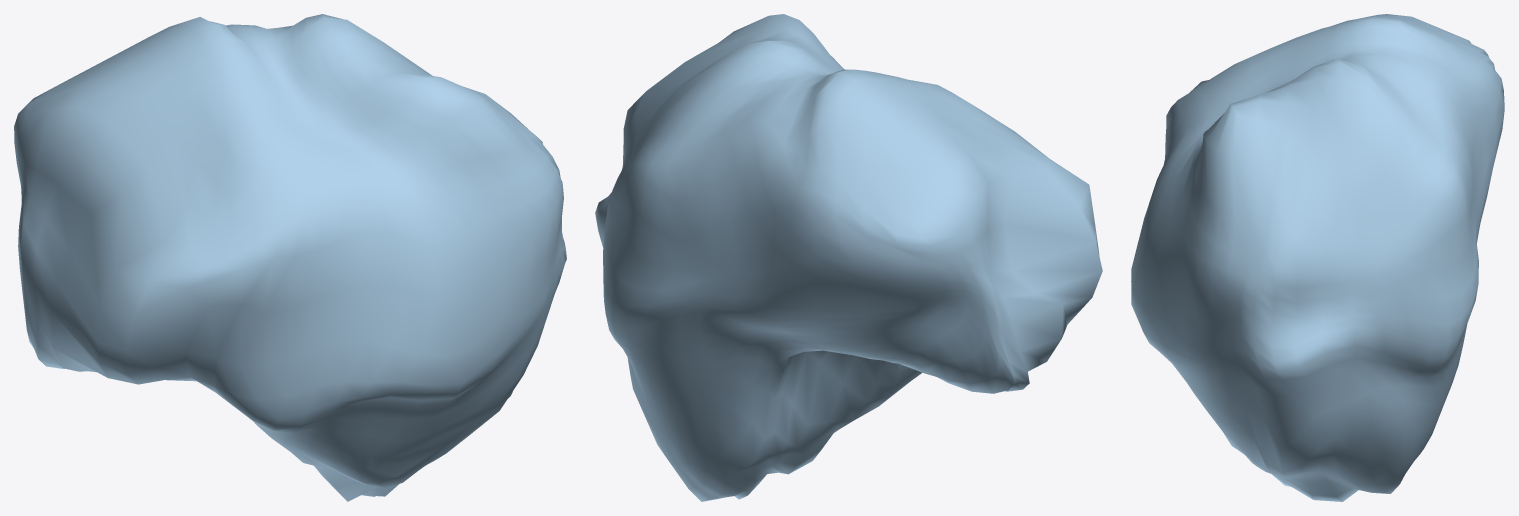
File: iceberg01.fbx
The picture shows the model from 3 angles, left to right: view 1: azimuth 30°, elevation 25°; view 2: azimuth 150°, elevation 25°; view 3: azimuth 270°, elevation 25°; orthographic projection. The views are drawn at different scales.
Parts seen in each view (by area): view 1: Cube.016; view 2: Cube.016; view 3: Cube.016.
Part boxes in pixels (left/top/right/bottom): Cube.016: left=14, top=14, right=566, bottom=501; Cube.016: left=595, top=14, right=1102, bottom=501; Cube.016: left=1131, top=14, right=1504, bottom=501.
Size of the model in its own units: 46.4 by 43.5 by 34.34.
